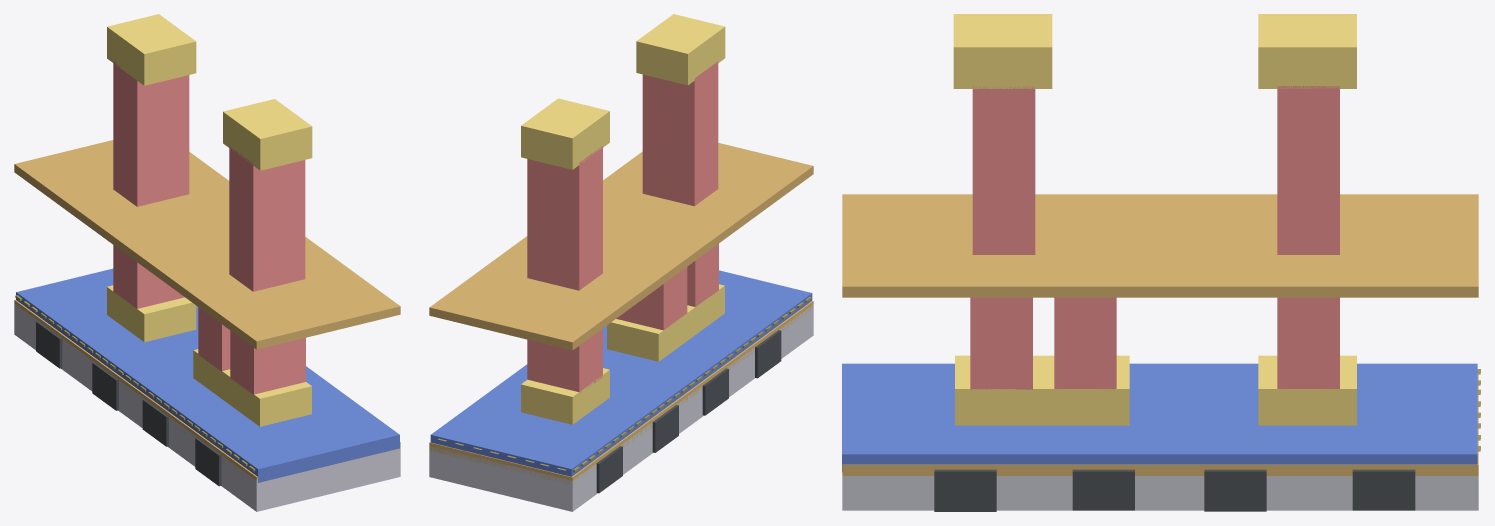
File: stack.glb
The picture shows the model from 3 angles, left to right: view 1: azimuth 30°, elevation 25°; view 2: azimuth 150°, elevation 25°; view 3: azimuth 270°, elevation 25°; orthographic projection. The views are drawn at different scales.
Parts seen in each view (by area): view 1: Cube.050, Cube.005, Cube.054, Cube.051, Cube, Cube.052, Cube.053, Cube.049, Cube.047, Cube.004, Cube.048, Cube.055 (+5 smaller); view 2: Cube.050, Cube.005, Cube.054, Cube.051, Cube, Cube.052, Cube.053, Cube.049, Cube.048, Cube.004, Cube.001, Cube.055 (+5 smaller); view 3: Cube.050, Cube.005, Cube, Cube.054, Cube.051, Cube.049, Cube.053, Cube.052, Cube.001, Cube.047, Cube.055, Cube.048 (+5 smaller).
Boxes of the visible parts, <box> form: Cube.050: <box>14,140,400,349</box>; Cube.005: <box>16,268,399,482</box>; Cube.054: <box>229,146,305,291</box>; Cube.051: <box>113,61,189,206</box>; Cube: <box>14,303,400,511</box>; Cube.052: <box>107,14,196,85</box>; Cube.053: <box>223,99,312,170</box>; Cube.049: <box>193,349,311,426</box>; Cube.047: <box>230,330,305,394</box>; Cube.004: <box>107,285,196,342</box>; Cube.048: <box>113,245,184,308</box>; Cube.055: <box>198,307,230,371</box>; Cube.050: <box>429,143,813,350</box>; Cube.005: <box>430,270,812,476</box>; Cube.054: <box>642,61,718,206</box>; Cube.051: <box>527,146,602,290</box>; Cube: <box>429,304,813,511</box>; Cube.052: <box>521,98,609,169</box>; Cube.053: <box>636,14,725,85</box>; Cube.049: <box>607,284,724,361</box>; Cube.048: <box>527,328,602,393</box>; Cube.004: <box>521,368,609,424</box>; Cube.001: <box>429,301,813,484</box>; Cube.055: <box>616,267,687,330</box>; Cube.050: <box>842,194,1478,297</box>; Cube.005: <box>842,363,1477,471</box>; Cube: <box>842,476,1478,510</box>; Cube.054: <box>972,86,1035,254</box>; Cube.051: <box>1277,86,1339,254</box>; Cube.049: <box>955,355,1129,425</box>; Cube.053: <box>953,14,1052,88</box>; Cube.052: <box>1258,14,1356,88</box>; Cube.001: <box>842,374,1478,475</box>; Cube.047: <box>970,297,1032,389</box>; Cube.055: <box>1054,297,1116,389</box>; Cube.048: <box>1277,297,1339,388</box>.
Size of the model in its own units: 2.08 by 4.39 by 5.86.
